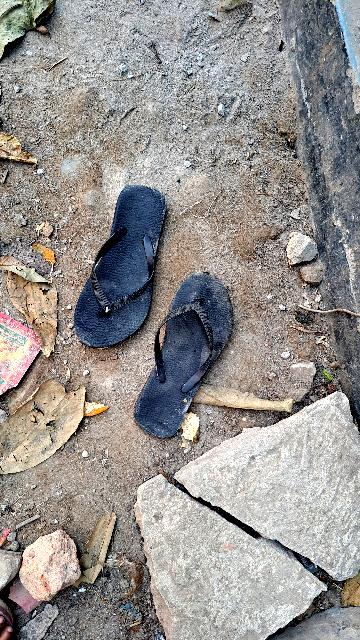sandal: (103, 256, 263, 454), (65, 177, 180, 361)
